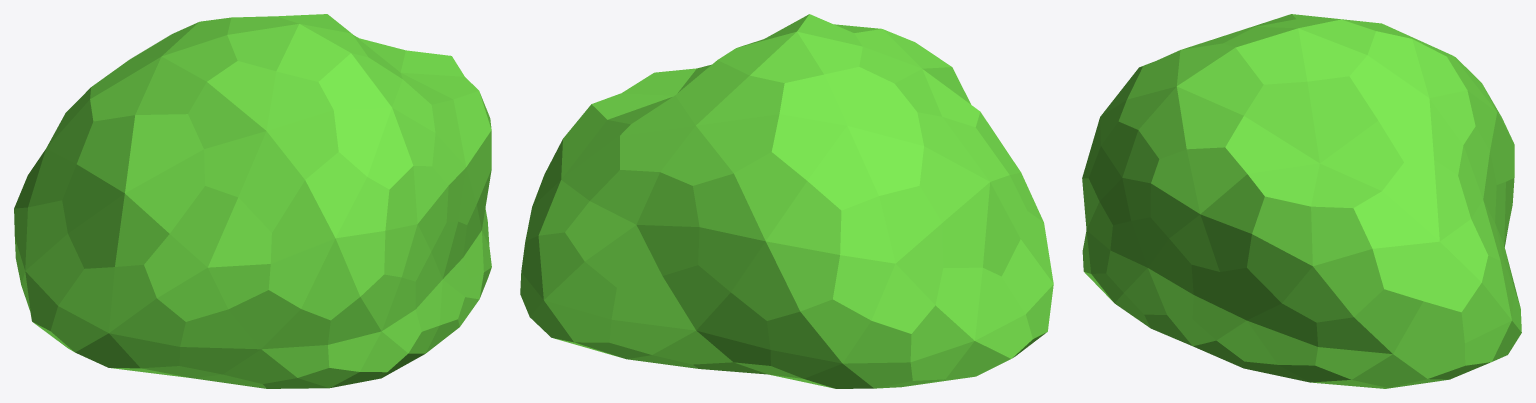
The model's file is Bush.fbx.
3 renders of one model, left to right at view 1: azimuth 30°, elevation 25°; view 2: azimuth 150°, elevation 25°; view 3: azimuth 270°, elevation 25°, orthographic. The views are drawn at different scales.
Parts seen in each view (by area): view 1: Icosphere; view 2: Icosphere; view 3: Icosphere.
Boxes of the visible parts, box(x1,y1,x2,y2) form: Icosphere: box(14, 14, 491, 388); Icosphere: box(520, 14, 1053, 388); Icosphere: box(1082, 14, 1521, 388).
Bounding box in the file's own units: 165 × 94.44 × 140.
